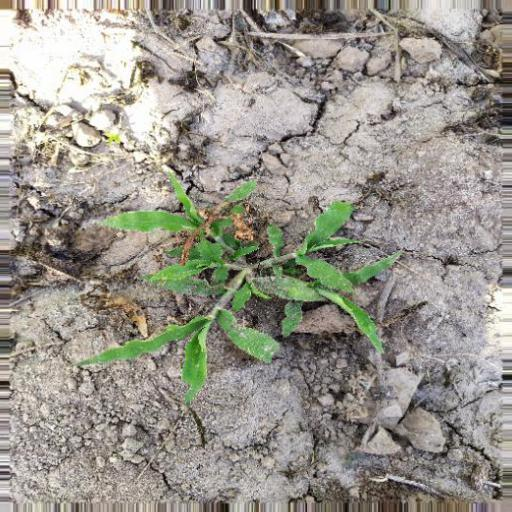weed: (86, 170, 423, 396)
